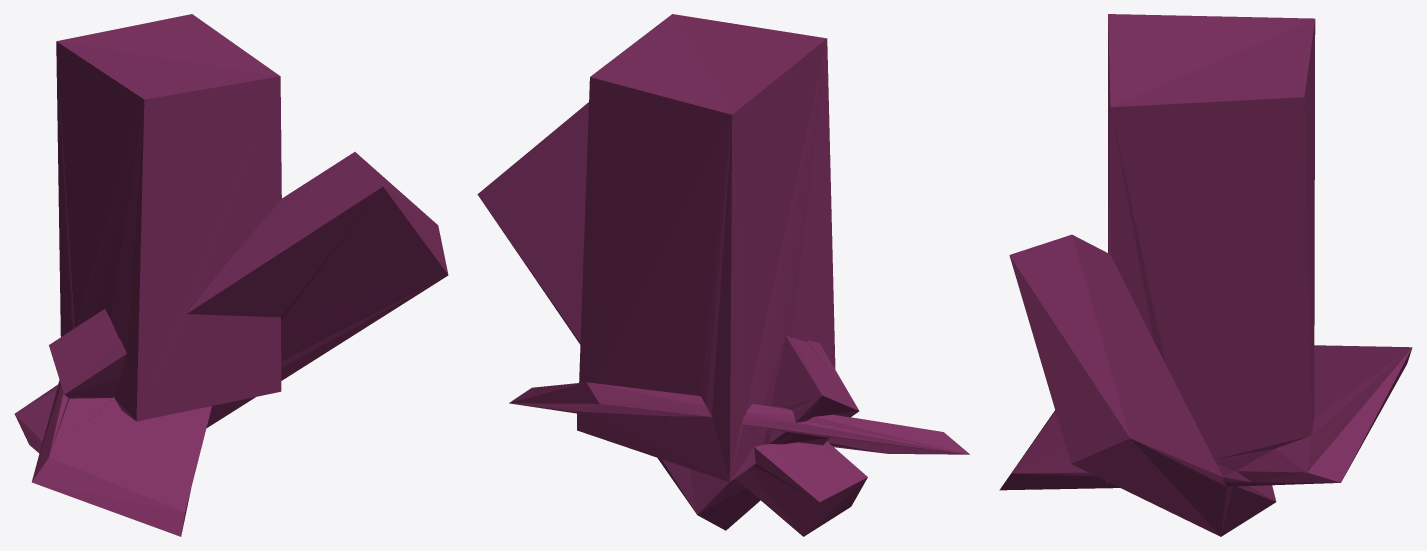
3 renders of one model, left to right at view 1: azimuth 30°, elevation 25°; view 2: azimuth 150°, elevation 25°; view 3: azimuth 270°, elevation 25°, orthographic. The views are drawn at different scales.
Parts seen in each view (by area): view 1: 961_Cube.3888; view 2: 961_Cube.3888; view 3: 961_Cube.3888.
Boxes of the visible parts, <box> form: 961_Cube.3888: <box>14,14,448,536</box>; 961_Cube.3888: <box>477,14,969,536</box>; 961_Cube.3888: <box>999,14,1412,536</box>.
Bounding box in the file's own units: 16.16 × 15.16 × 11.41.
